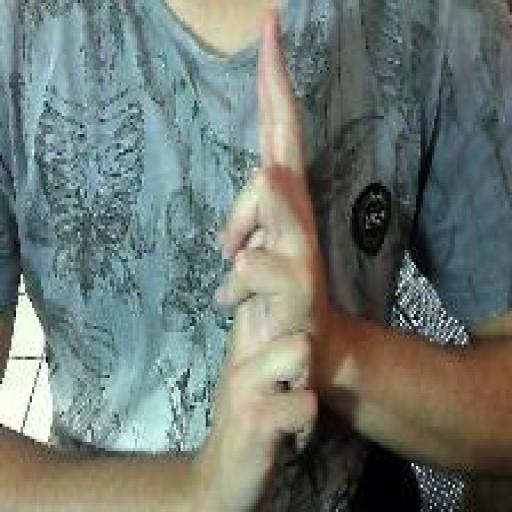Hitsuji -ram-: (209, 4, 326, 510)
